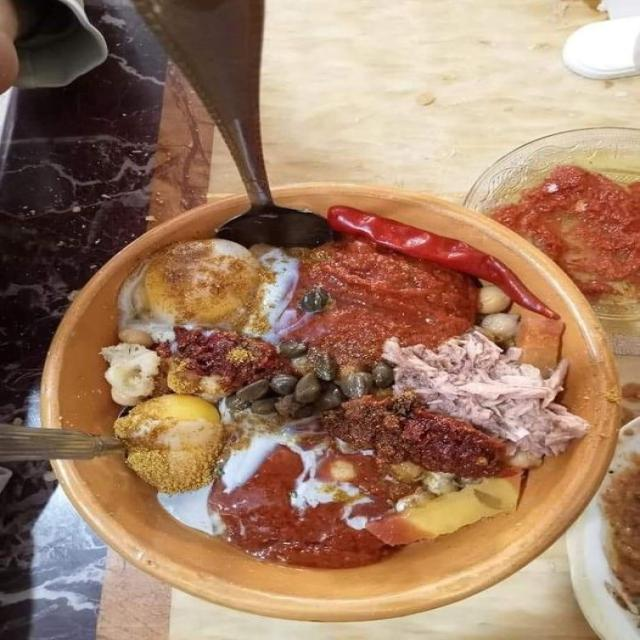Lablabi: (38, 178, 577, 580)
